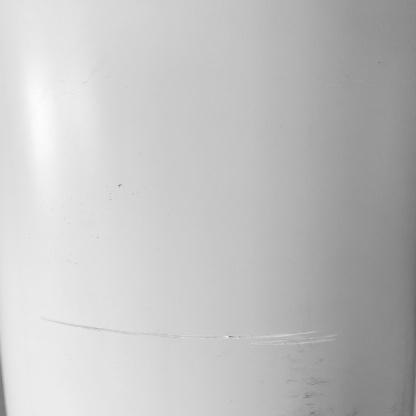sunshang: (38, 309, 344, 354)
